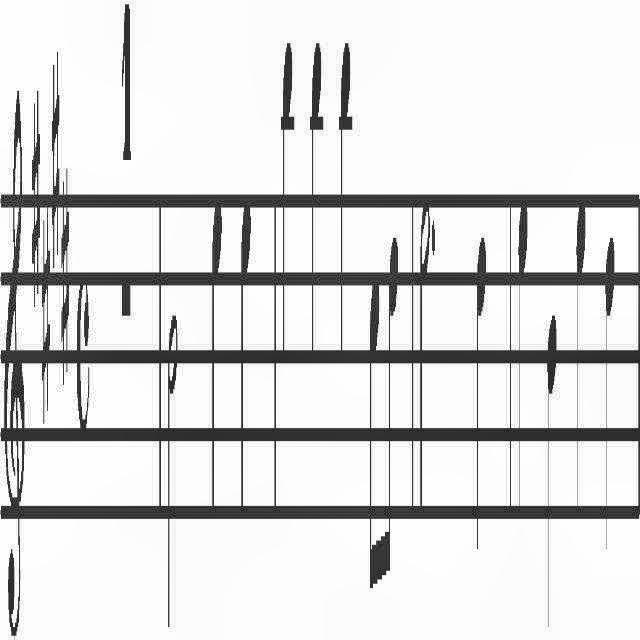Bass-clef: (2, 25, 30, 640)
Bemol: (60, 160, 72, 408), (30, 72, 42, 316), (50, 38, 60, 284), (41, 202, 50, 402)
Eighth-note: (366, 254, 382, 634), (386, 226, 402, 586)
Half-note: (166, 276, 178, 640), (418, 176, 429, 536)
Quarter-note: (306, 0, 326, 410), (280, 3, 296, 389), (336, 5, 352, 391), (238, 168, 255, 526), (208, 156, 224, 536), (474, 188, 490, 566), (544, 276, 560, 640), (515, 178, 529, 542), (575, 168, 589, 530), (602, 213, 616, 555)
